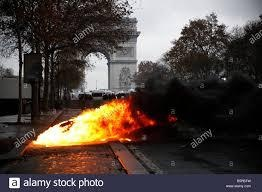fire: (28, 96, 142, 144)
